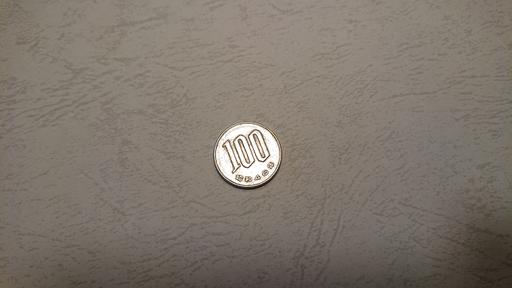100yen: (214, 122, 281, 188)
